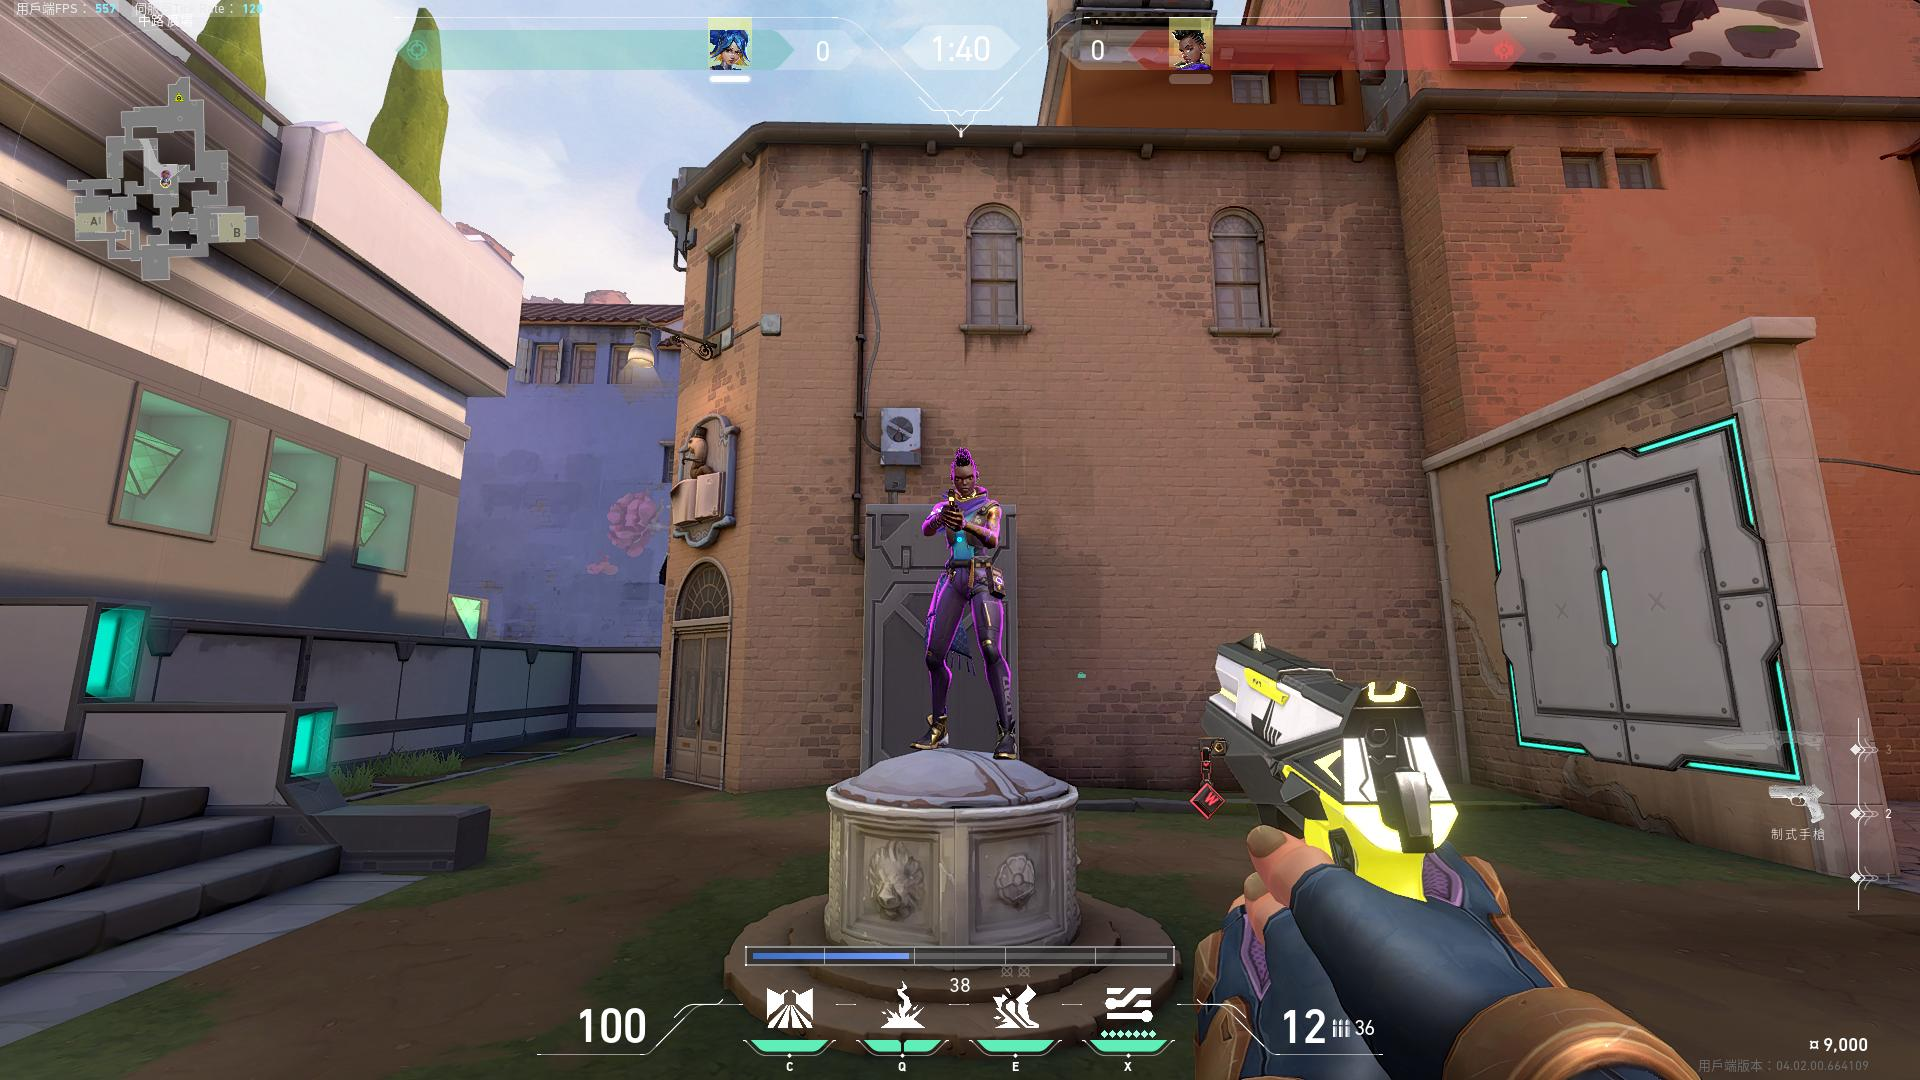enemyBody: (956, 514, 1002, 585)
enemyHead: (949, 458, 985, 496)
